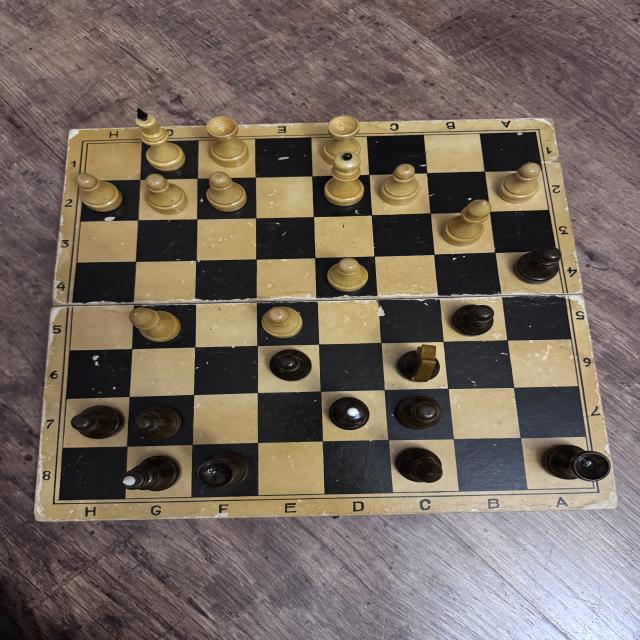black-bishop: (395, 446, 445, 484)
black-king: (119, 457, 181, 491)
black-knight: (397, 345, 440, 382)
black-pawn: (71, 404, 126, 441), (514, 247, 562, 284), (394, 395, 442, 430), (134, 404, 182, 439), (451, 303, 497, 337), (270, 349, 312, 382)
black-queen: (328, 396, 373, 431)
black-rook: (538, 443, 612, 484), (191, 453, 252, 490)
white-bishop: (442, 199, 490, 247), (128, 307, 183, 343)
white-king: (132, 108, 188, 173)
white-pawn: (72, 172, 122, 213), (204, 171, 247, 212), (144, 174, 188, 214), (496, 163, 539, 201), (381, 164, 420, 204), (259, 305, 305, 338), (326, 257, 369, 291)
white-queen: (324, 151, 365, 208)
white-rook: (208, 115, 248, 167), (323, 115, 361, 164)
